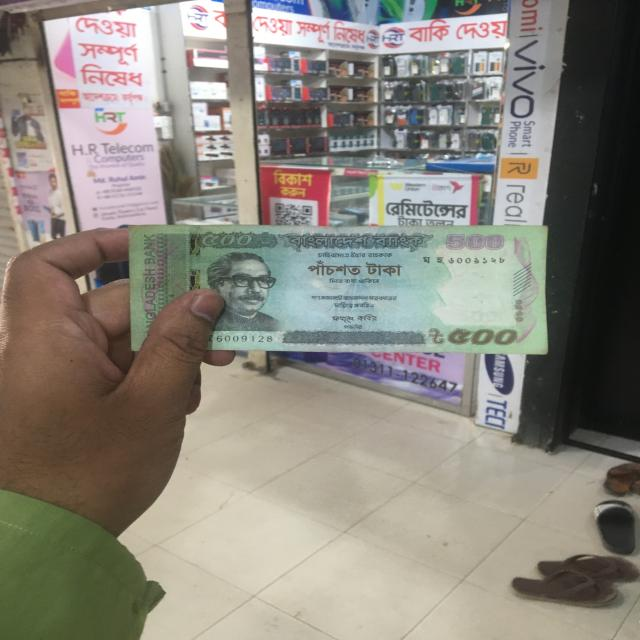Taka: (128, 221, 542, 347)
